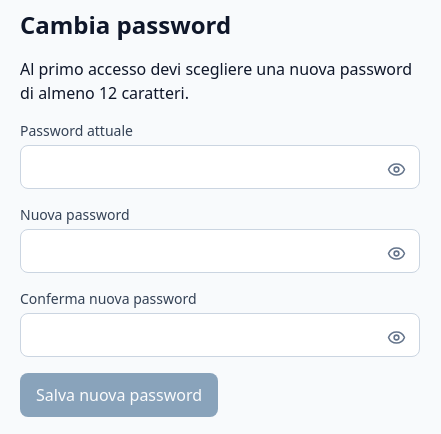
Test: ChangePassword › mantiene il pulsante disabilitato finché tutti i campi non sono validi
Expected: the button "Salva nuova password" is disabled, [20,373,218,417]
Type "password-attuale" into the password field labelled "Password attuale". click: point(220, 167)
box: [20,145,420,189]
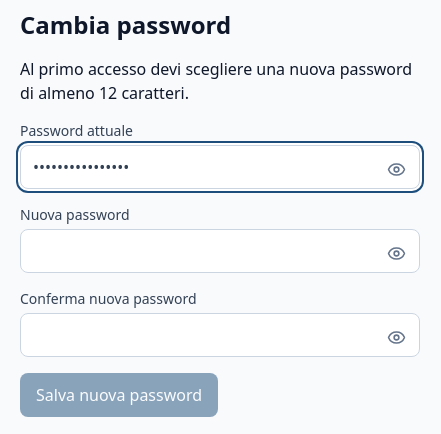
Type "NuovaPassword1!" into the password field labelled "Nuova password". click: point(220, 251)
box: [20,229,420,273]
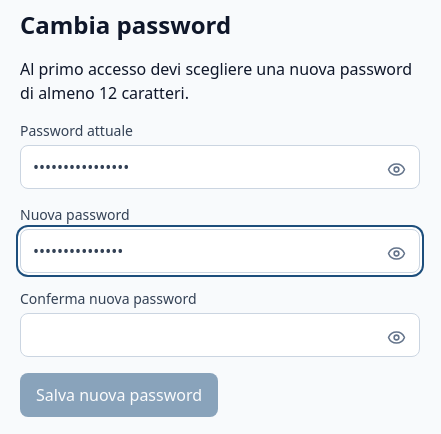
Expected: the button "Salva nuova password" is disabled, [20,373,218,417]
Type "NuovaPassword1!" into the password field labelled "Conferma nuova password". click: point(220, 335)
box: [20,313,420,357]
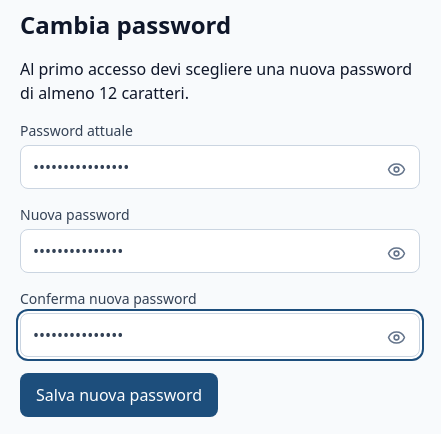
Now the button "Salva nuova password" is enabled, box [20,373,218,417]
